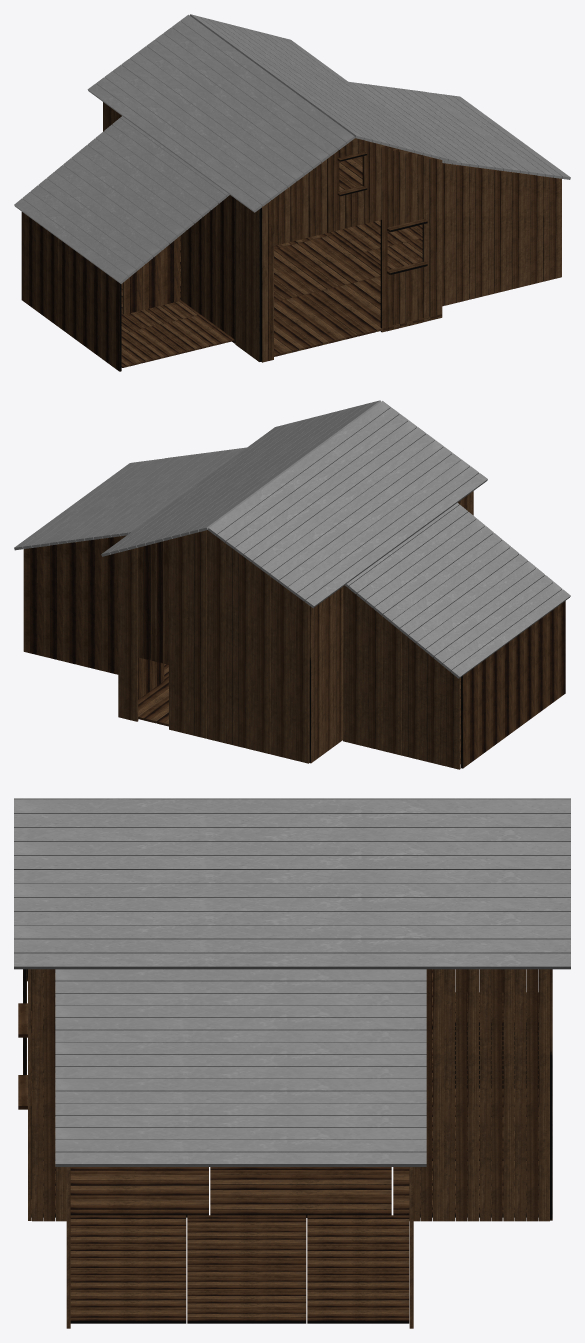
The model's file is Barn.fbx.
3 renders of one model, top to bottom at view 1: azimuth 30°, elevation 25°; view 2: azimuth 150°, elevation 25°; view 3: azimuth 270°, elevation 25°, orthographic. The views are drawn at different scales.
Visible parts, largest first — view 1: ShortPlank75; view 2: ShortPlank75; view 3: ShortPlank75.
Part boxes in pixels (x1,y1,x2,y2): ShortPlank75: (14, 14, 570, 371); ShortPlank75: (14, 400, 570, 769); ShortPlank75: (14, 798, 570, 1328).
Size of the model in its own units: 16.47 by 7.52 by 10.86.
